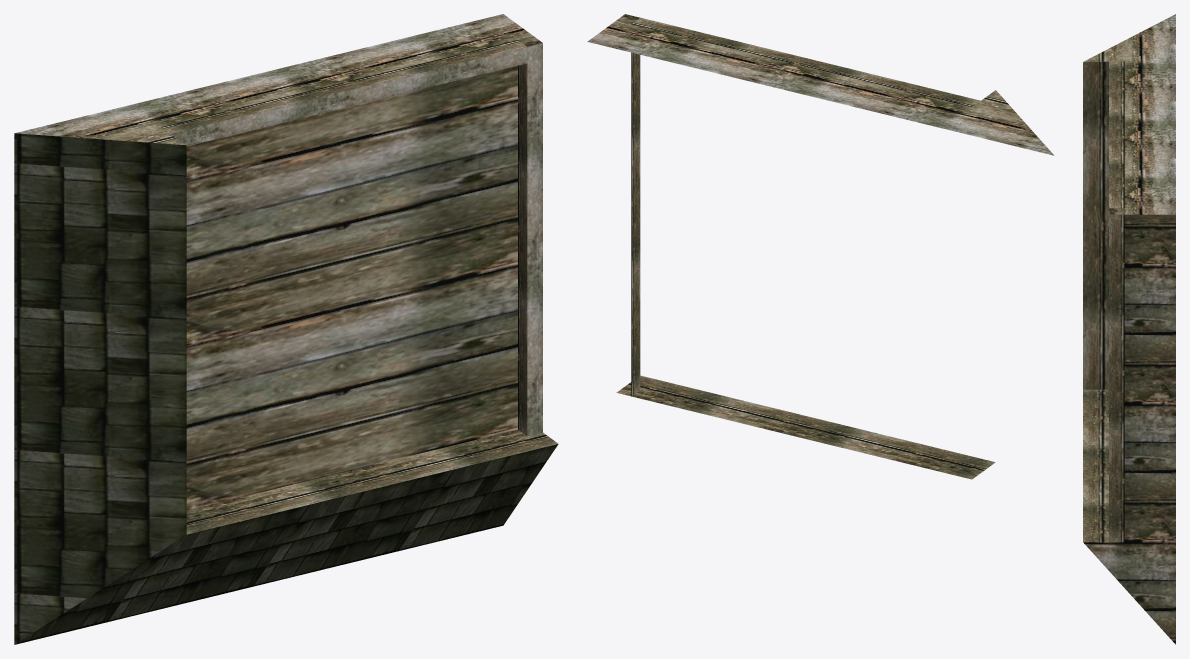
The model's file is HouseWall05.glb.
3 views of the same model, side by side, from view 1: azimuth 30°, elevation 25°; view 2: azimuth 150°, elevation 25°; view 3: azimuth 270°, elevation 25° (orthographic). The views are drawn at different scales.
Visible parts, largest first — view 1: model_HouseWall05; view 2: model_HouseWall05; view 3: model_HouseWall05.
Part boxes in pixels (<box>): model_HouseWall05: <box>14,14,558,644</box>; model_HouseWall05: <box>587,14,1053,479</box>; model_HouseWall05: <box>1083,14,1175,644</box>.
Size of the model in its own units: 4.6 by 4.6 by 0.9004.
Materials: 2 (2 with a texture image).
